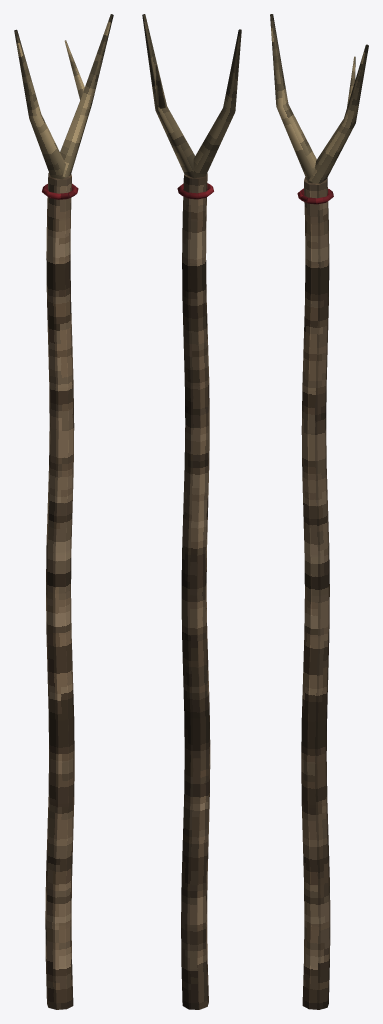
Rendered from antler_staff.glb.
The picture shows the model from 3 angles, left to right: view 1: azimuth 30°, elevation 25°; view 2: azimuth 150°, elevation 25°; view 3: azimuth 330°, elevation 25°; orthographic projection.
Parts seen in each view (by area): view 1: antler_staff; view 2: antler_staff; view 3: antler_staff.
Part boxes in pixels (left/top/right/bottom): antler_staff: left=14, top=14, right=113, bottom=1009; antler_staff: left=142, top=14, right=241, bottom=1009; antler_staff: left=270, top=14, right=368, bottom=1009.
Size of the model in its own units: 0.1335 by 1.27 by 0.0627.
Materials: 1 (1 with a texture image).
